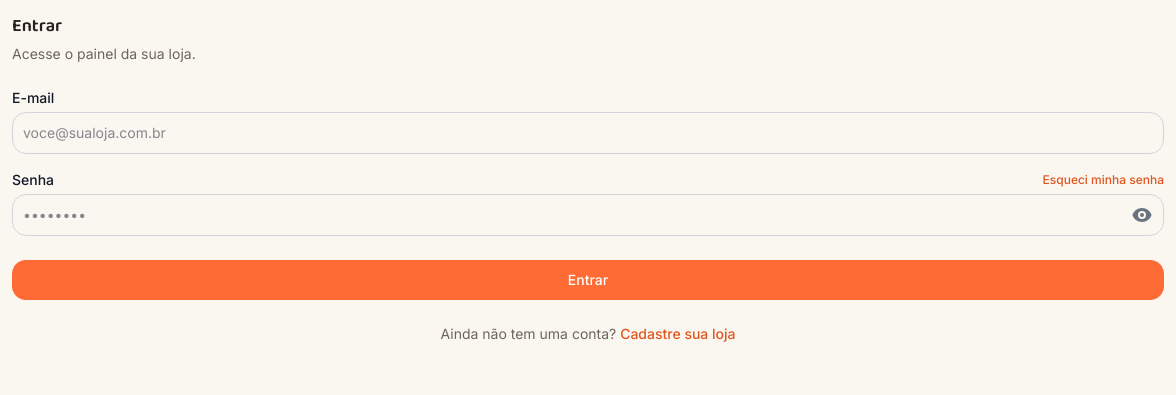
Scenario: LoginPage (smoke) › mostra mensagem de erro quando login falha
Type "loja@test.com" into the field labelled "E-mail" at (588, 133), box [12,112,1164,154]
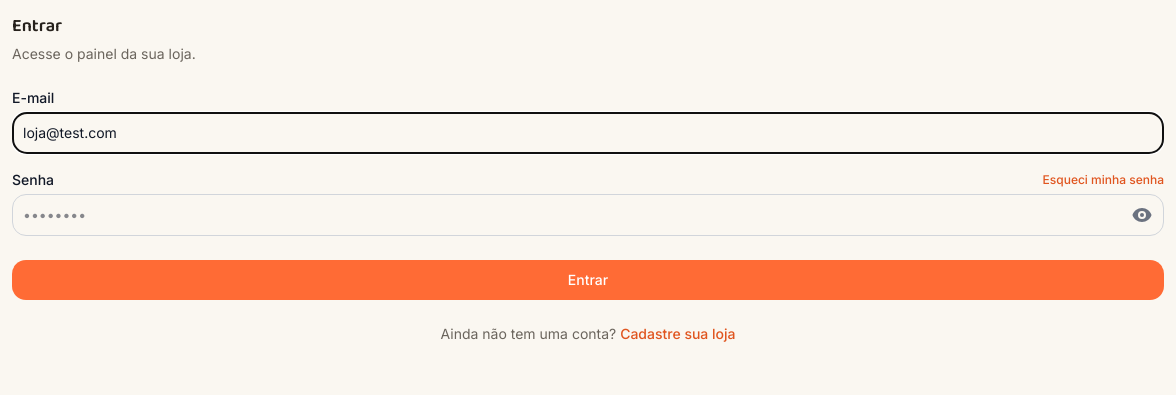
Type "errada" into the password field labelled "Senha" at (588, 215), box [12,194,1164,236]
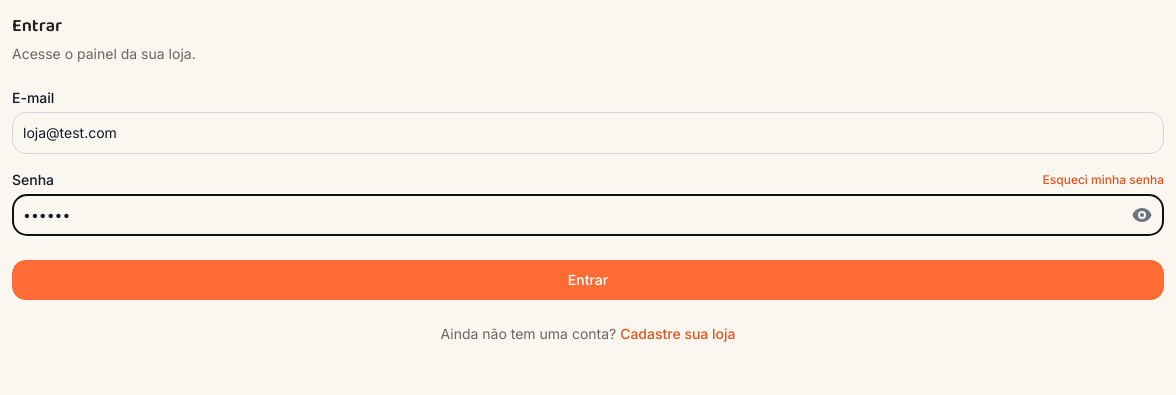
Click the button "Entrar" at (588, 280), box [12,260,1164,300]
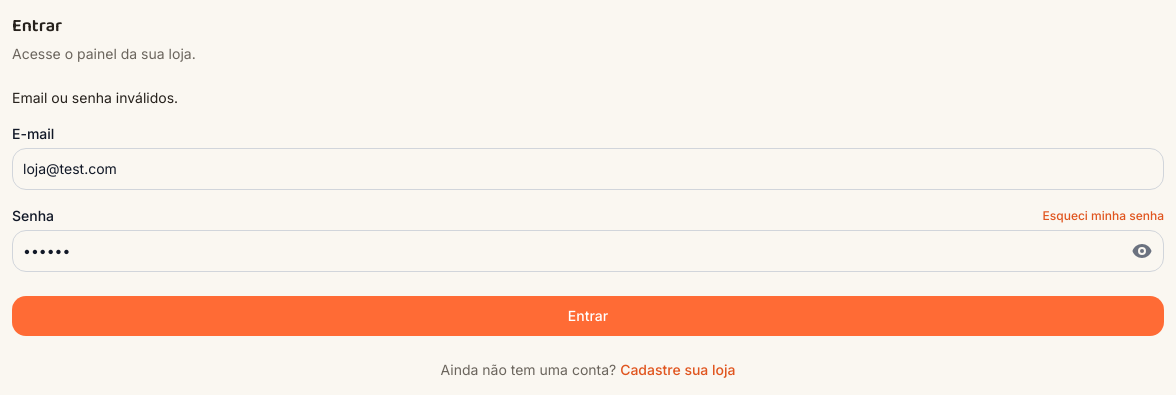
Now the text "Email ou senha inválidos." is shown, box [12,88,178,108]
